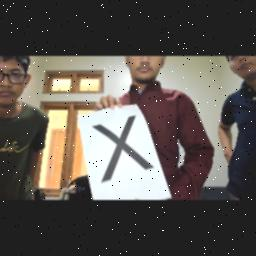x: (90, 114, 158, 184)
